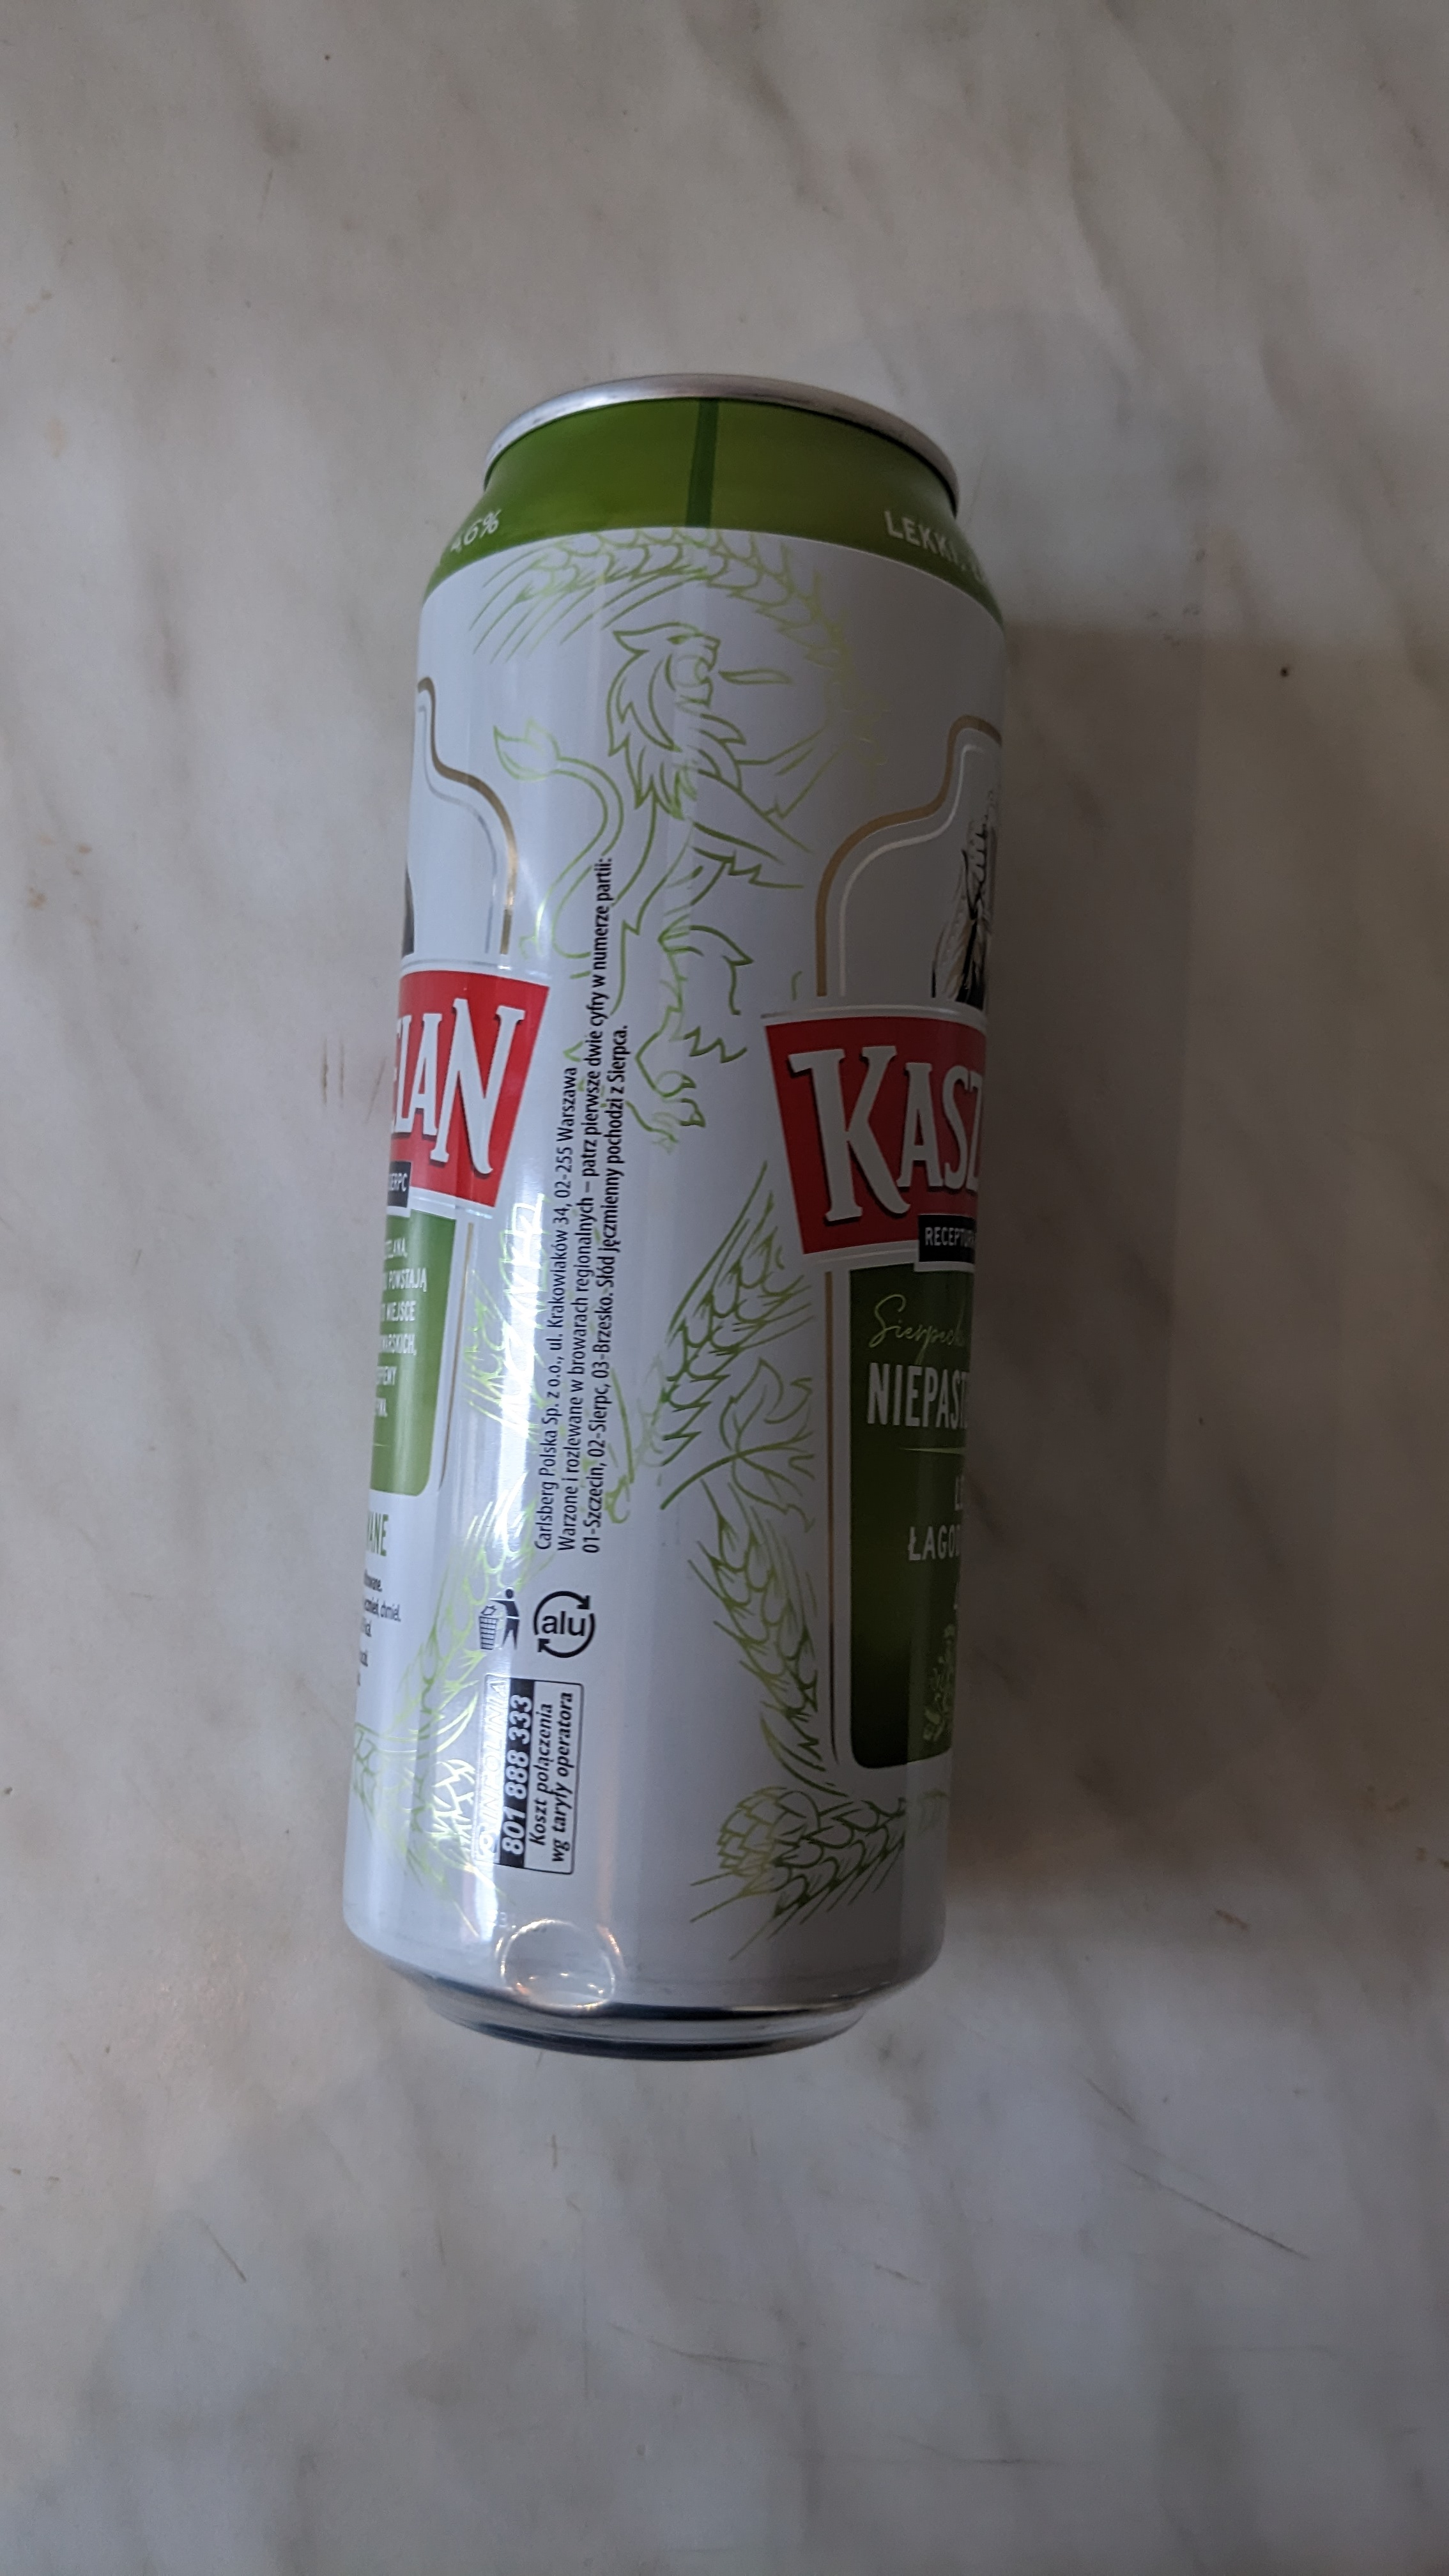kasztelan: (322, 366, 989, 2102)
